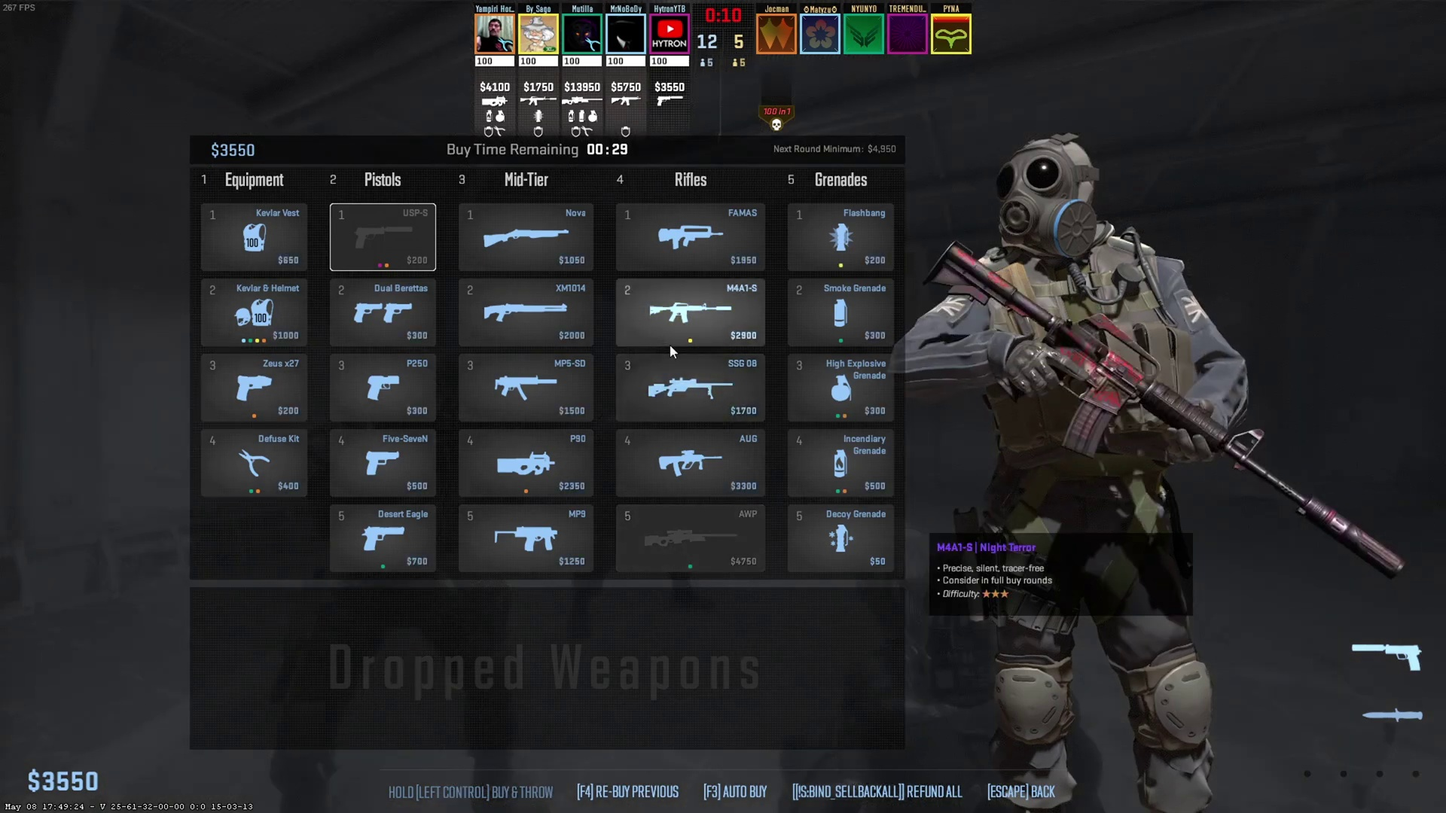CT: (965, 137, 1235, 811)
